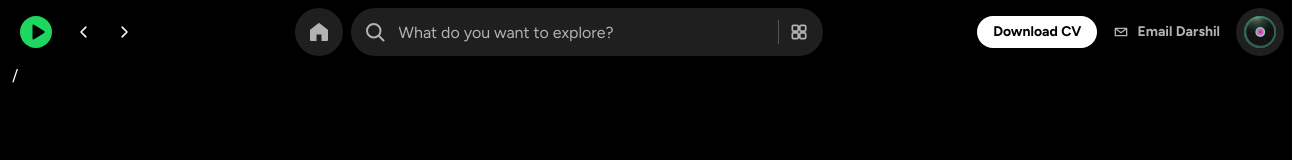
GlobalTopBar › submits a query as a shareable /search?q= URL
The width and height of the screenshot is (1292, 160).
In the search field: (587, 32) [351,8,823,56], type "  operations "
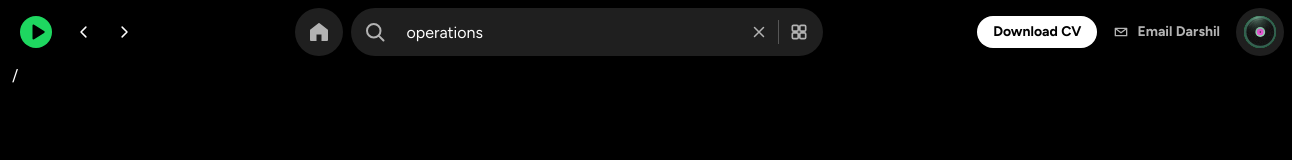
Submit the form, box [351,8,823,56]
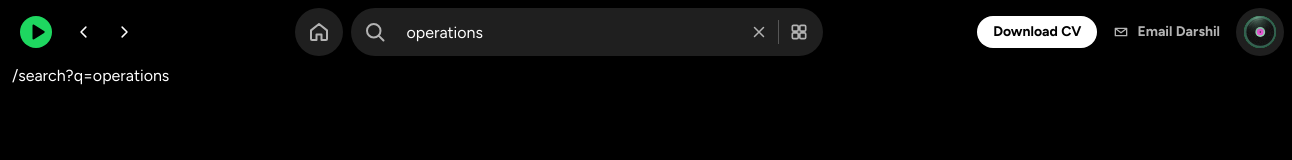
Check: the text "/search?q=operations" is shown, box [12,66,169,85]
